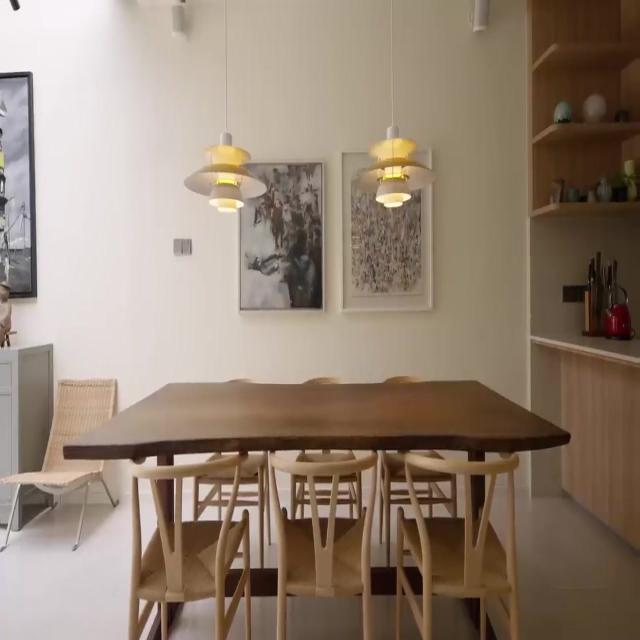obstacle: (63, 376, 571, 637), (395, 453, 520, 639), (128, 453, 252, 639), (0, 377, 119, 552), (268, 450, 378, 639), (378, 375, 457, 567), (193, 379, 271, 558), (0, 343, 54, 531), (290, 377, 358, 521)
